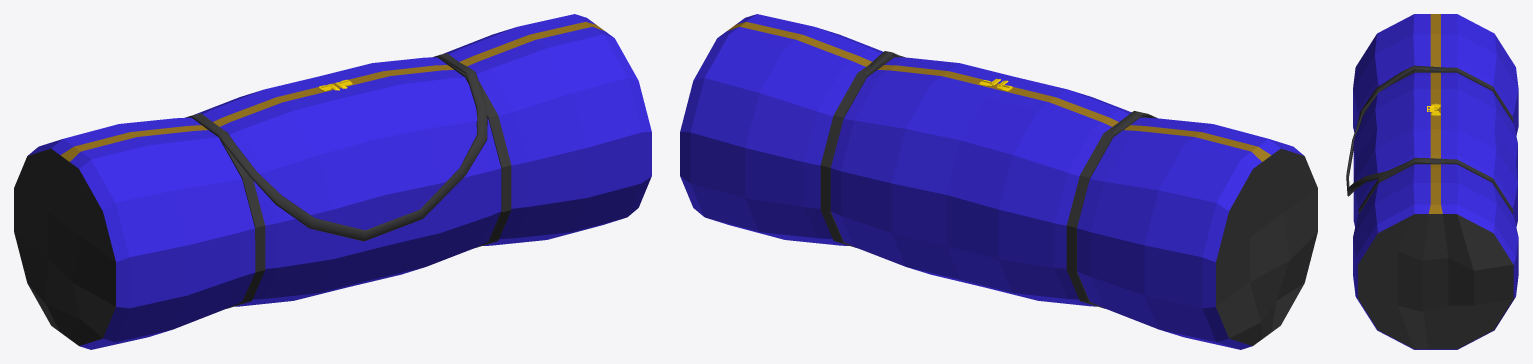
File: backpack_turnbeutel.glb
3 renders of one model, left to right at view 1: azimuth 30°, elevation 25°; view 2: azimuth 150°, elevation 25°; view 3: azimuth 270°, elevation 25°, orthographic. The views are drawn at different scales.
Parts seen in each view (by area): view 1: origin; view 2: origin; view 3: origin.
Boxes of the visible parts, x1=… form: origin: x1=14, y1=14, x2=651, y2=349; origin: x1=680, y1=14, x2=1317, y2=349; origin: x1=1346, y1=14, x2=1518, y2=349.
Size of the model in its own units: 4.3 by 1.43 by 1.51.
